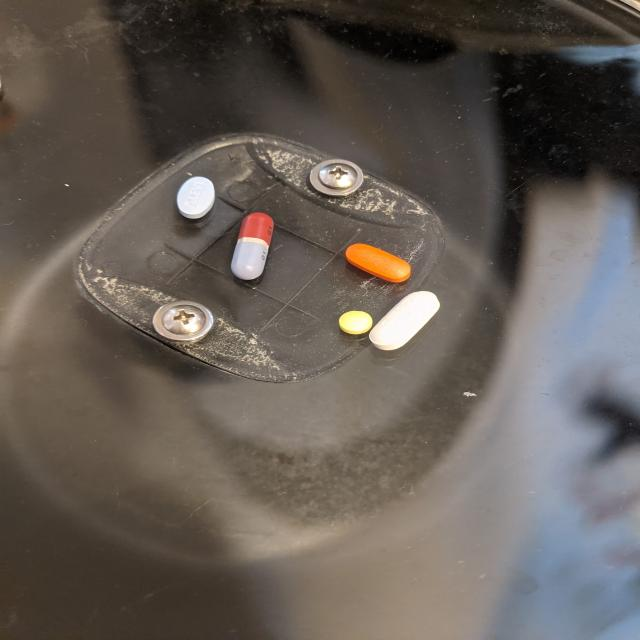non-organic waste: (368, 290, 442, 351), (230, 212, 275, 280), (344, 242, 412, 284), (175, 176, 216, 220), (338, 310, 374, 335)
